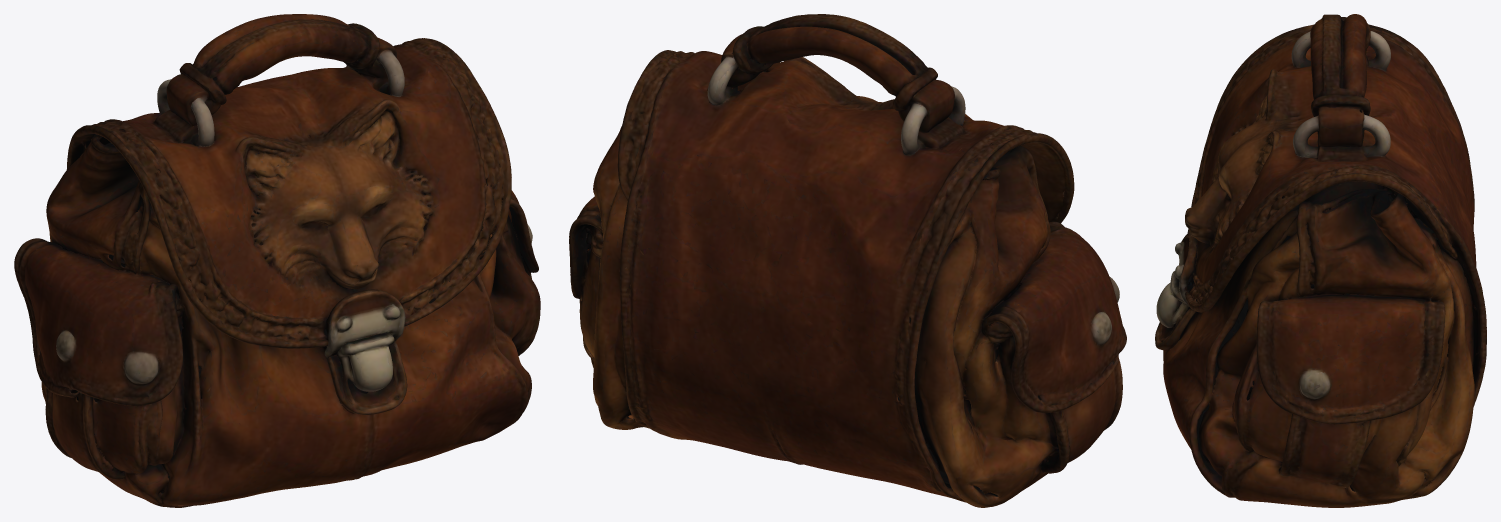
Rendered from generation_satchel_0.glb.
3 renders of one model, left to right at view 1: azimuth 30°, elevation 25°; view 2: azimuth 150°, elevation 25°; view 3: azimuth 270°, elevation 25°, orthographic. The views are drawn at different scales.
Parts seen in each view (by area): view 1: geometry_0; view 2: geometry_0; view 3: geometry_0.
Part boxes in pixels (left/top/right/bottom): geometry_0: left=14, top=14, right=540, bottom=507; geometry_0: left=569, top=14, right=1126, bottom=507; geometry_0: left=1155, top=14, right=1486, bottom=507.
Bounding box in the file's own units: 1 × 0.8523 × 0.628.
Materials: 1 (1 with a texture image).
